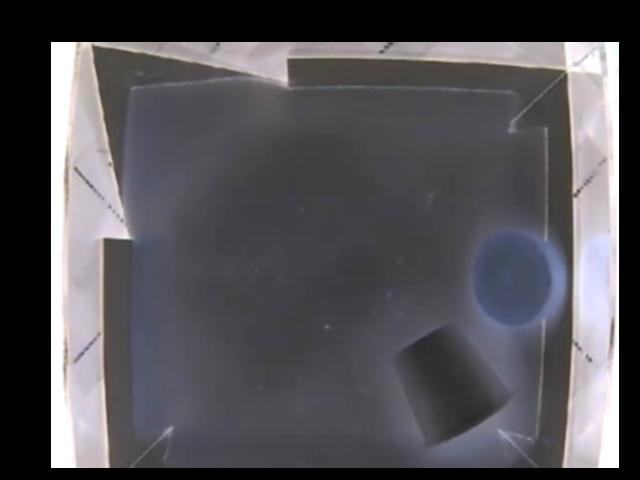Cup: (391, 323, 515, 450)
Mooli: (472, 232, 561, 332)
